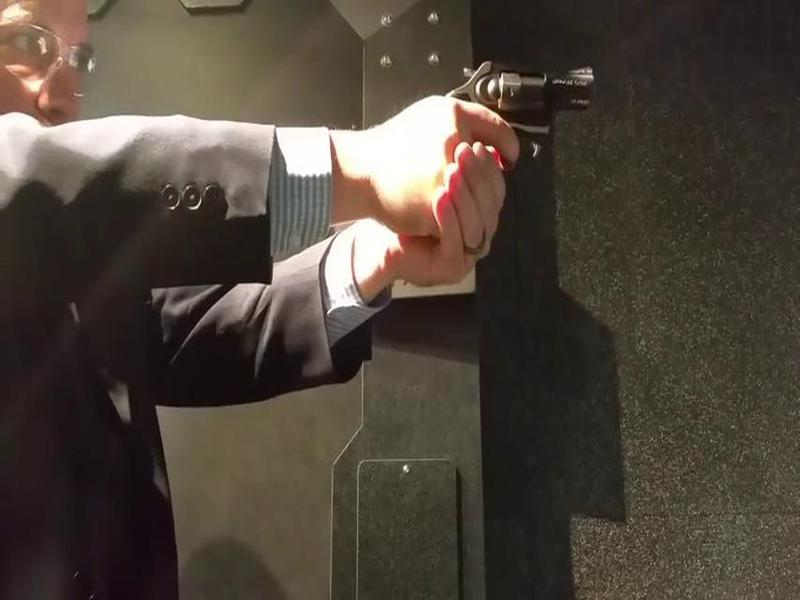Revolver: (441, 47, 623, 185)
